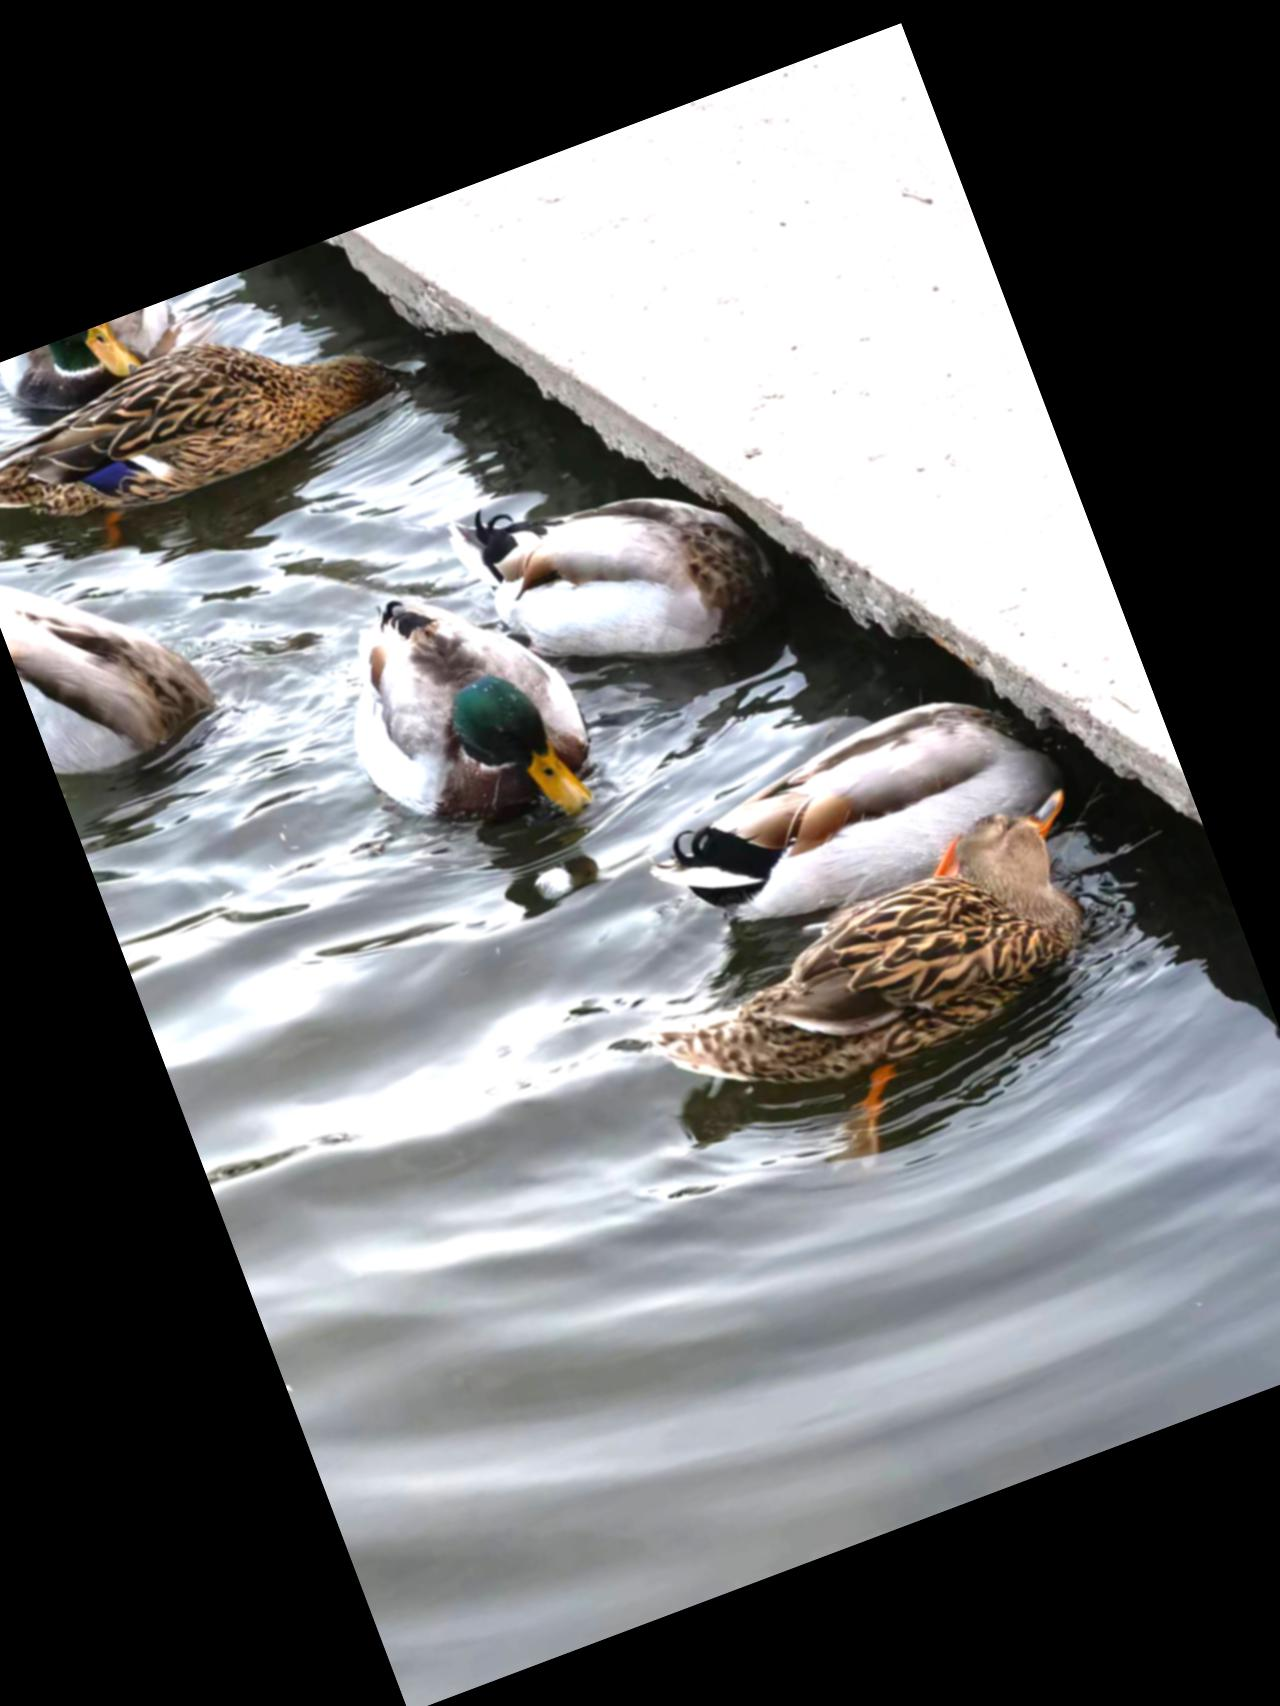duck: (559, 765, 1166, 1233), (606, 639, 1090, 981), (432, 390, 839, 752), (0, 266, 465, 582), (297, 527, 624, 882), (0, 534, 255, 823), (0, 298, 196, 437)
